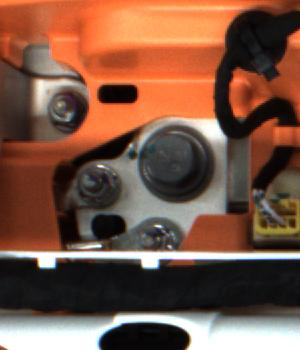nut_b: (138, 118, 224, 209)
screw_s: (69, 166, 126, 209), (43, 92, 84, 126), (135, 219, 173, 250)
